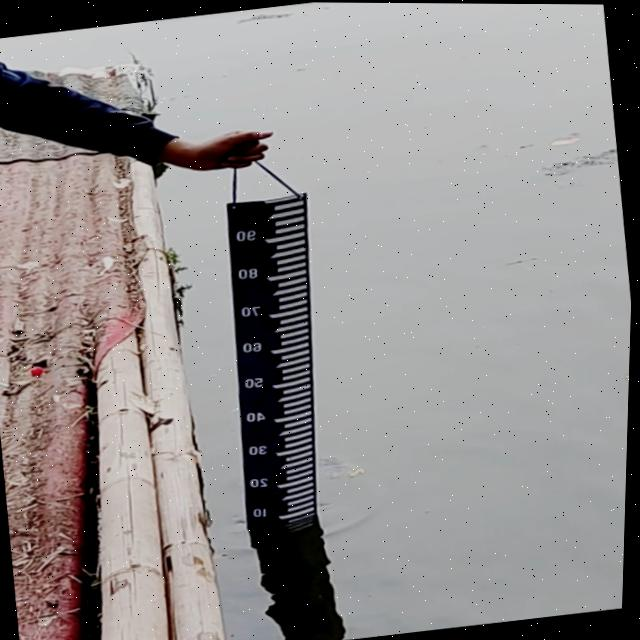water-meter: (170, 175, 364, 560)
